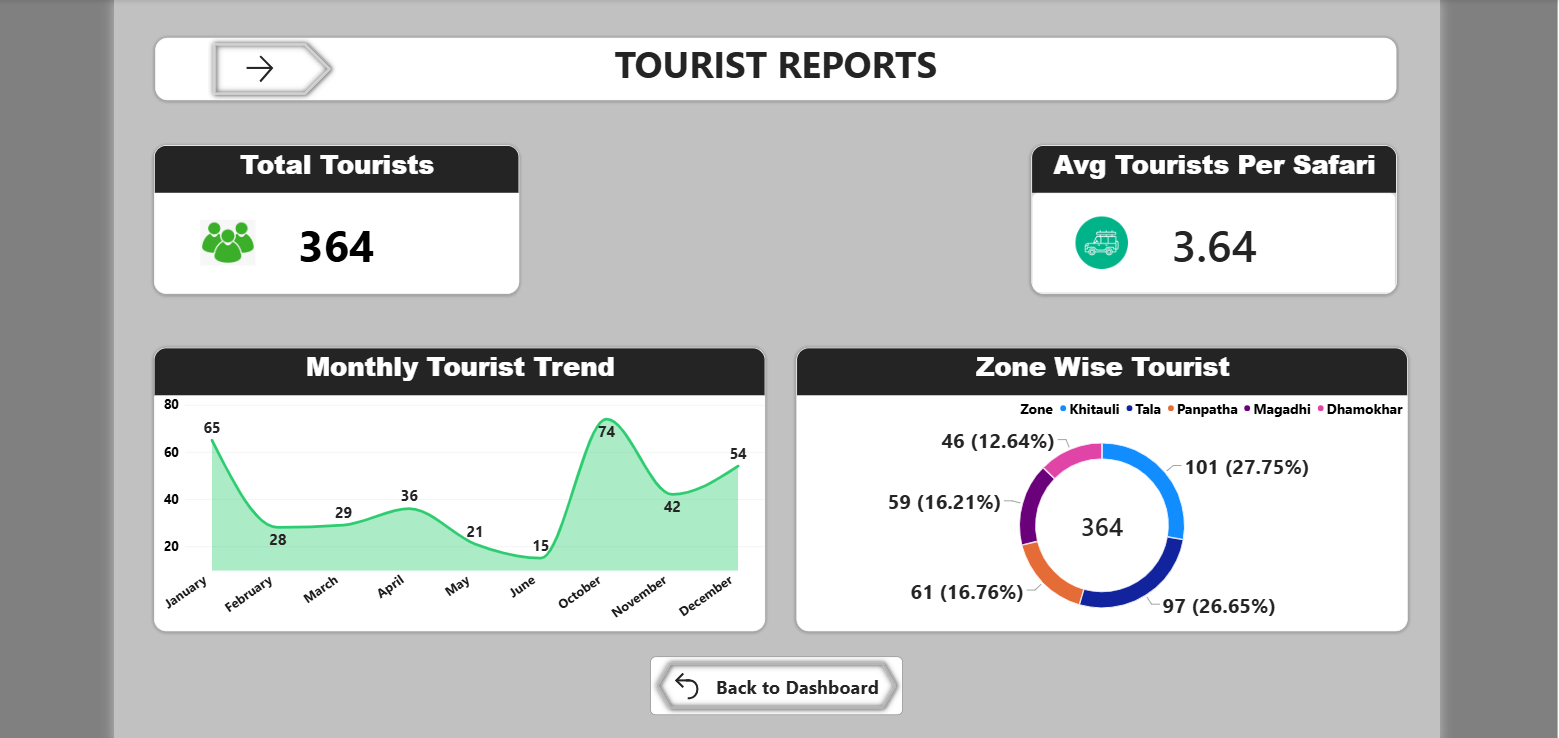

The dashboard page shown, as its layout file describes it:
{"tool":"powerbi","page":{"name":"Page 3","canvas":[1920,1080],"ordinal":2},"visuals":[{"type":"textbox","box":[59.7,56.1,1797,90.5],"z":0},{"type":"card","title":"Total Tourists","fields":{"Values":["safari_bookings.Total Tourists"]},"box":[57.9,211.7,528.4,215.3],"z":1000},{"type":"image","box":[124.9,314.9,80.3,76.2],"z":2000},{"type":"cardVisual","title":"Avg Tourists Per Safari","fields":{"Data":["safari_bookings.Avg Tourists per Safari"]},"box":[1328.3,211.7,528.4,215.3],"z":3000},{"type":"image","box":[1380.8,314.9,97.7,76],"z":4000},{"type":"lineChart","title":"Monthly Tourist Trend","fields":{"Category":["Dim_Date.Month"],"Y":["safari_bookings.Total Tourists"]},"box":[57.9,504.9,884.9,410.8],"z":5000},{"type":"donutChart","title":"Zone Wise Tourist","fields":{"Category":["Dim_Zone.Zone"],"Y":["Sum(safari_bookings.Tourists)"]},"box":[988.1,504.9,884.9,410.8],"z":6000},{"type":"actionButton","box":[776.3,951.9,365.6,85.1],"z":7000},{"type":"actionButton","box":[135.7,56.1,186.4,90.5],"z":8000}]}

Visuals, with their boxes on the page's 1920x1080 design canvas (x1, y1, x2, y2). These are canvas units, not pixel positions in the 1559x738 screenshot, which may show the page scaled, cropped or inside an application window:
textbox: select_region(60, 56, 1857, 147)
"Total Tourists" card: select_region(58, 212, 586, 427)
image: select_region(125, 315, 205, 391)
"Avg Tourists Per Safari" cardVisual: select_region(1328, 212, 1857, 427)
image: select_region(1381, 315, 1478, 391)
"Monthly Tourist Trend" lineChart: select_region(58, 505, 943, 916)
"Zone Wise Tourist" donutChart: select_region(988, 505, 1873, 916)
actionButton: select_region(776, 952, 1142, 1037)
actionButton: select_region(136, 56, 322, 147)
